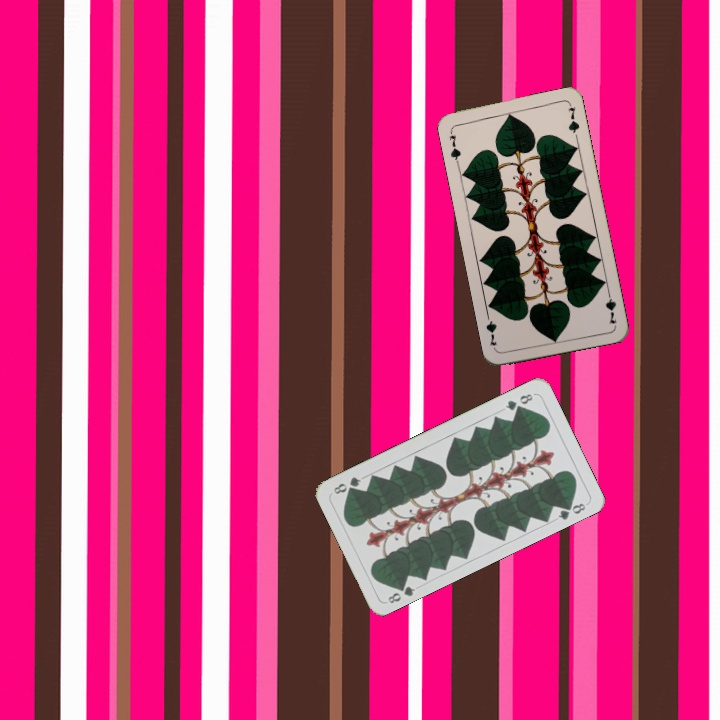G7: (601, 286, 619, 327), (445, 125, 463, 166)
G8: (384, 579, 418, 606), (501, 389, 537, 413)
